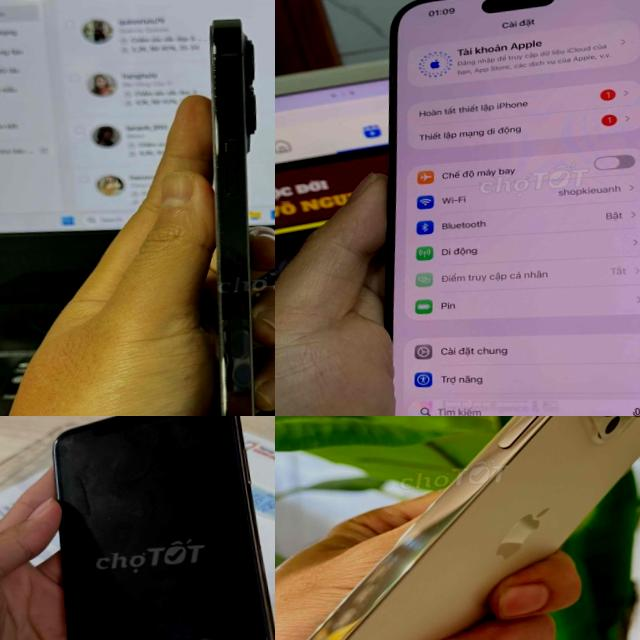gen_12_13: (157, 0, 275, 416)
gen_14: (275, 416, 640, 640)
gen_15: (352, 0, 640, 416)
gen_x_xs: (34, 416, 275, 640)
scratch: (198, 39, 230, 124)
